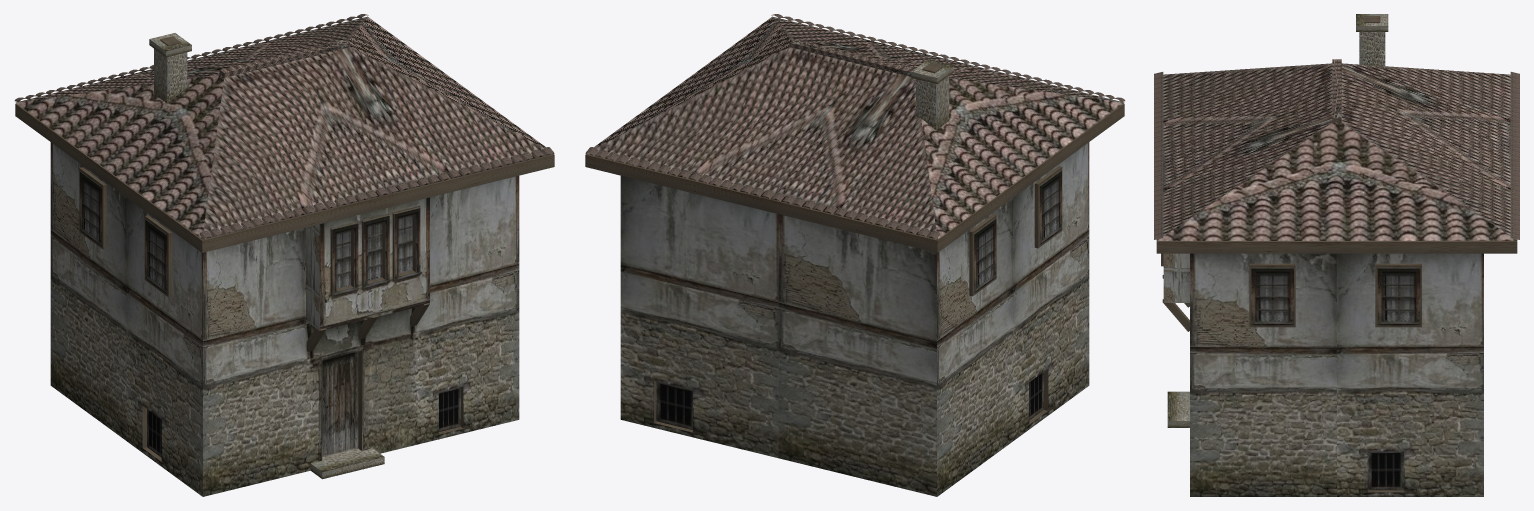
Rendered from cumba.glb.
The picture shows the model from 3 angles, left to right: view 1: azimuth 30°, elevation 25°; view 2: azimuth 150°, elevation 25°; view 3: azimuth 270°, elevation 25°; orthographic projection. The views are drawn at different scales.
Visible parts, largest first — view 1: cumba; view 2: cumba; view 3: cumba.
Boxes of the visible parts, left/top/right/bottom form: cumba: left=14, top=14, right=554, bottom=496; cumba: left=585, top=14, right=1125, bottom=496; cumba: left=1154, top=14, right=1519, bottom=496.
Bounding box in the file's own units: 6.68 × 6.73 × 6.23.
Materials: 1 (1 with a texture image).
